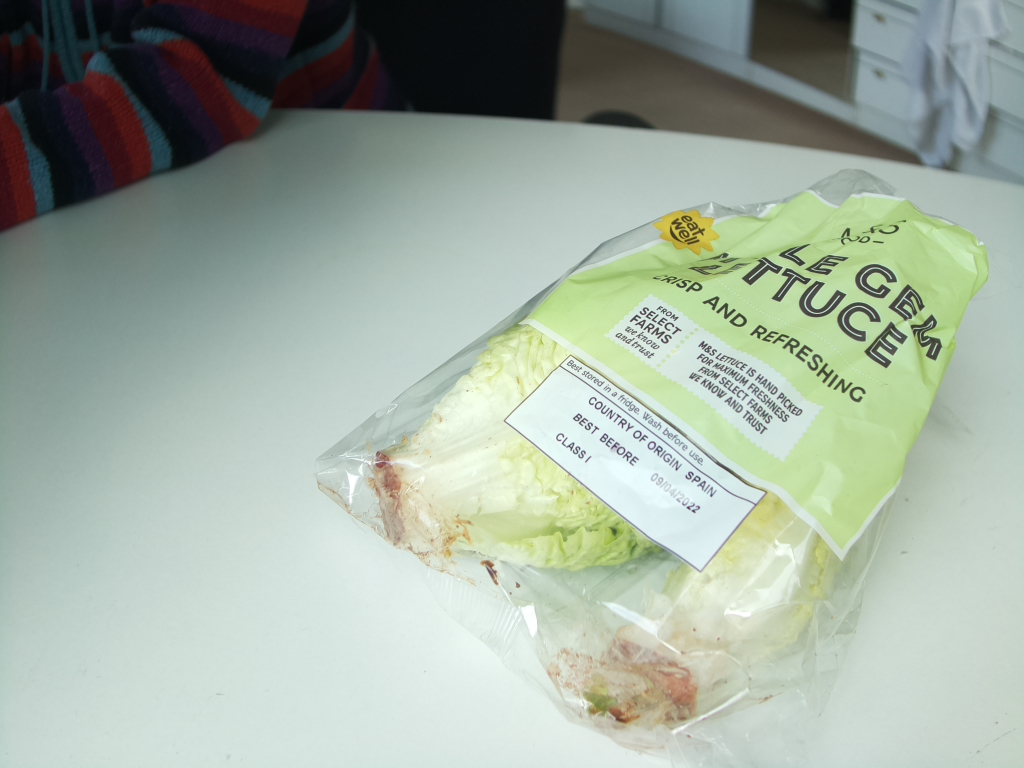salad: (375, 168, 982, 740)
